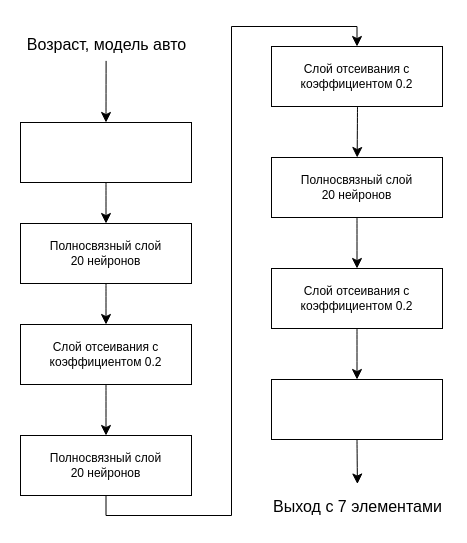
The diagram is 467 pixels wide and 543 high, and some of its shapes have lost their labels. Here are the shapes that lost their labels. From the top down, the centre of each, then its label:
the point at 106,152: Входной слой 30 нейронов
the point at 356,409: Выходной слой 7 нейронов
